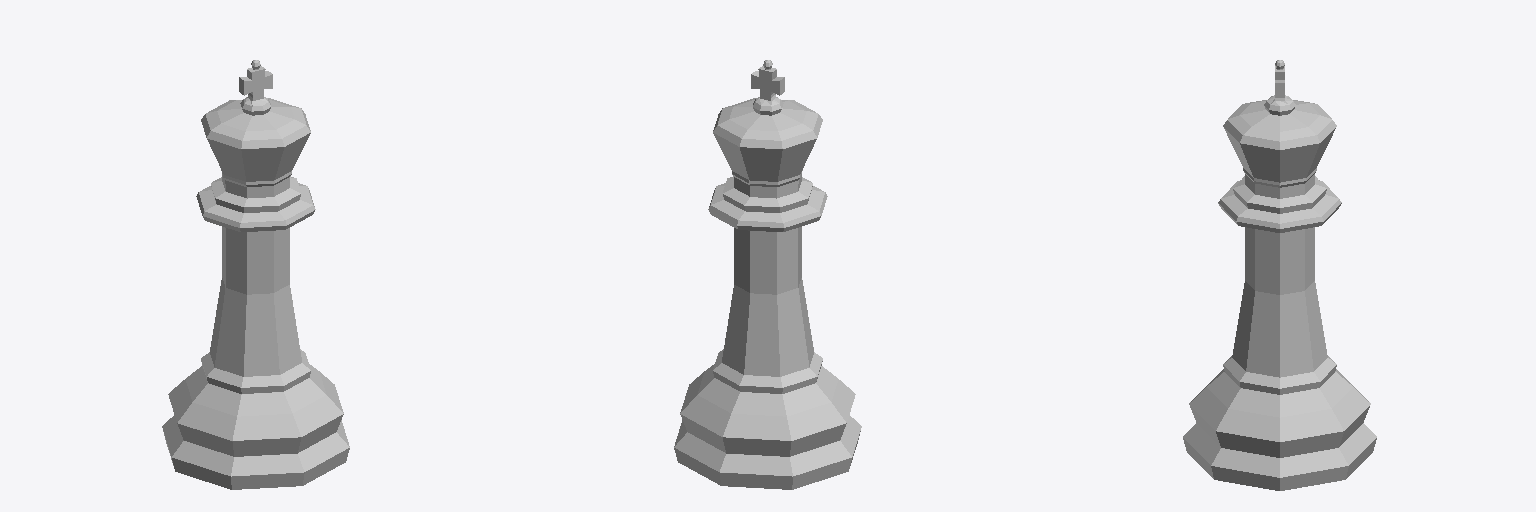
File: king.obj
3 views of the same model, side by side, from view 1: azimuth 30°, elevation 25°; view 2: azimuth 150°, elevation 25°; view 3: azimuth 270°, elevation 25° (orthographic).
Parts seen in each view (by area): view 1: Chess_King; view 2: Chess_King; view 3: Chess_King.
Part boxes in pixels (x1,y1,x2,y2): Chess_King: (162,60,349,489); Chess_King: (674,60,861,489); Chess_King: (1183,60,1376,490).
Bounding box in the file's own units: 4.42 × 9.8 × 4.42.